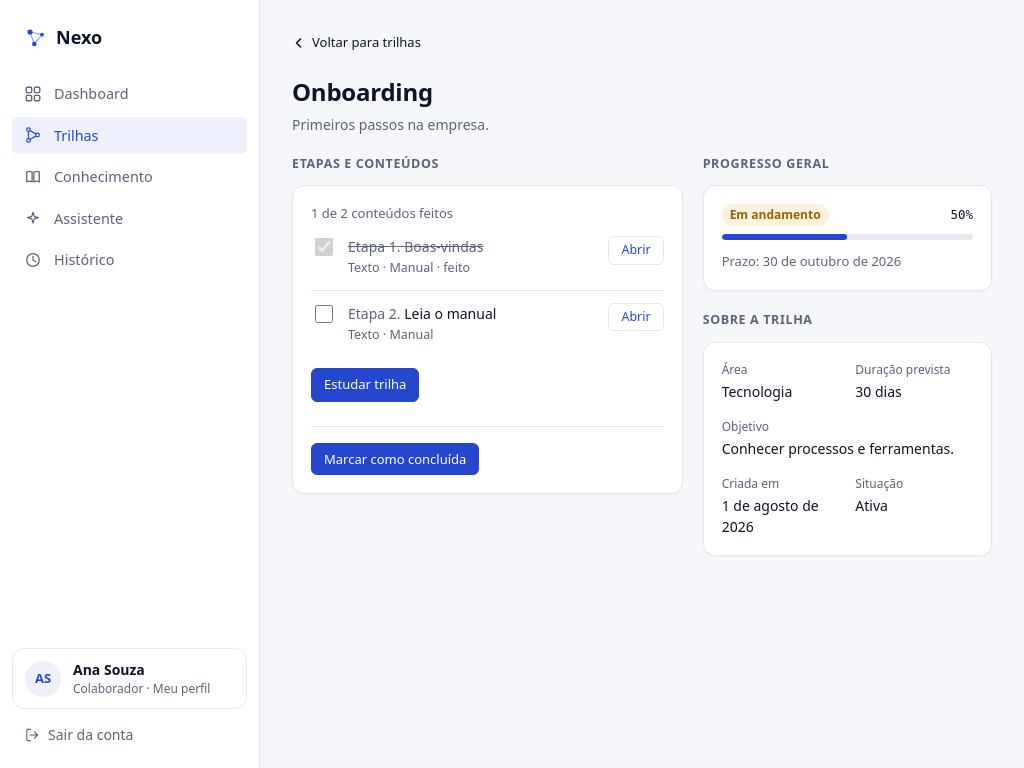
TrilhaDetalhePage › lista as etapas com seus conteúdos e marca um como feito
The image size is (1024, 768).
Expected: the checkbox labelled "Etapa 1. Boas-vindas" is checked, [315,238,333,256]
Expected: the checkbox labelled "Etapa 1. Boas-vindas" is disabled, [315,238,333,256]
What coordinates should you click on to do the following:
click the checkbox labelled "Etapa 2. Leia o manual"
I would click on:
 (324, 314)
Its box is [315,304,333,322].
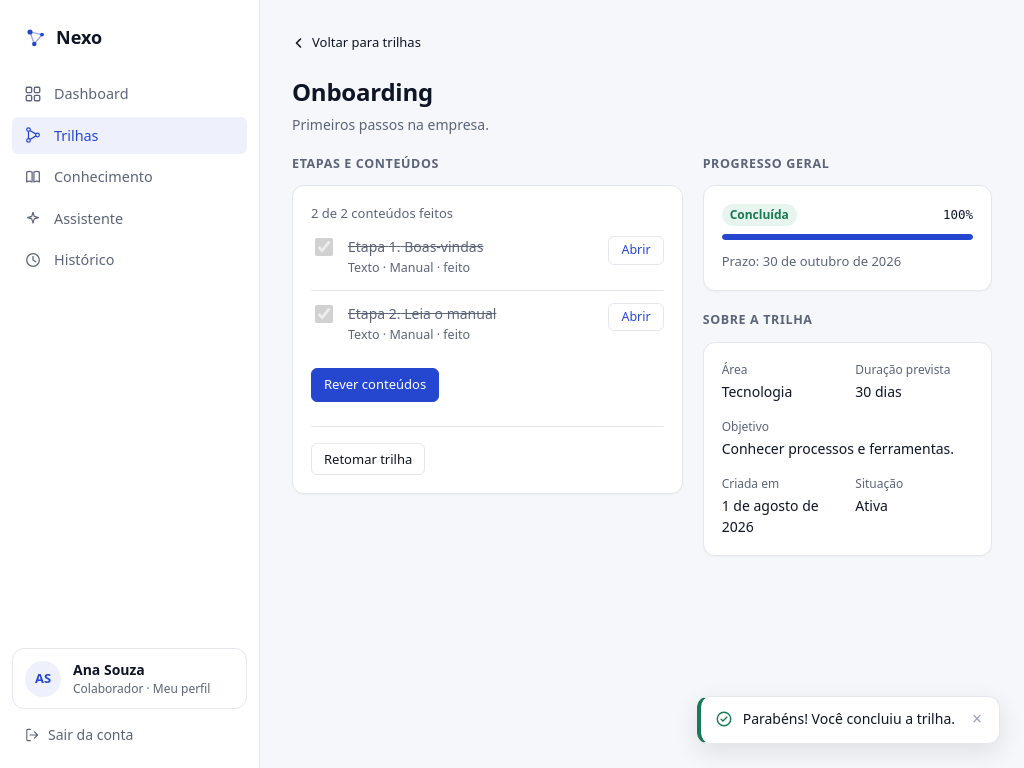
Result: the checkbox labelled "Etapa 2. Leia o manual" is checked at [315,304,333,322]
Result: the text "2 de 2 conteúdos feitos" is shown at [311,204,453,222]
